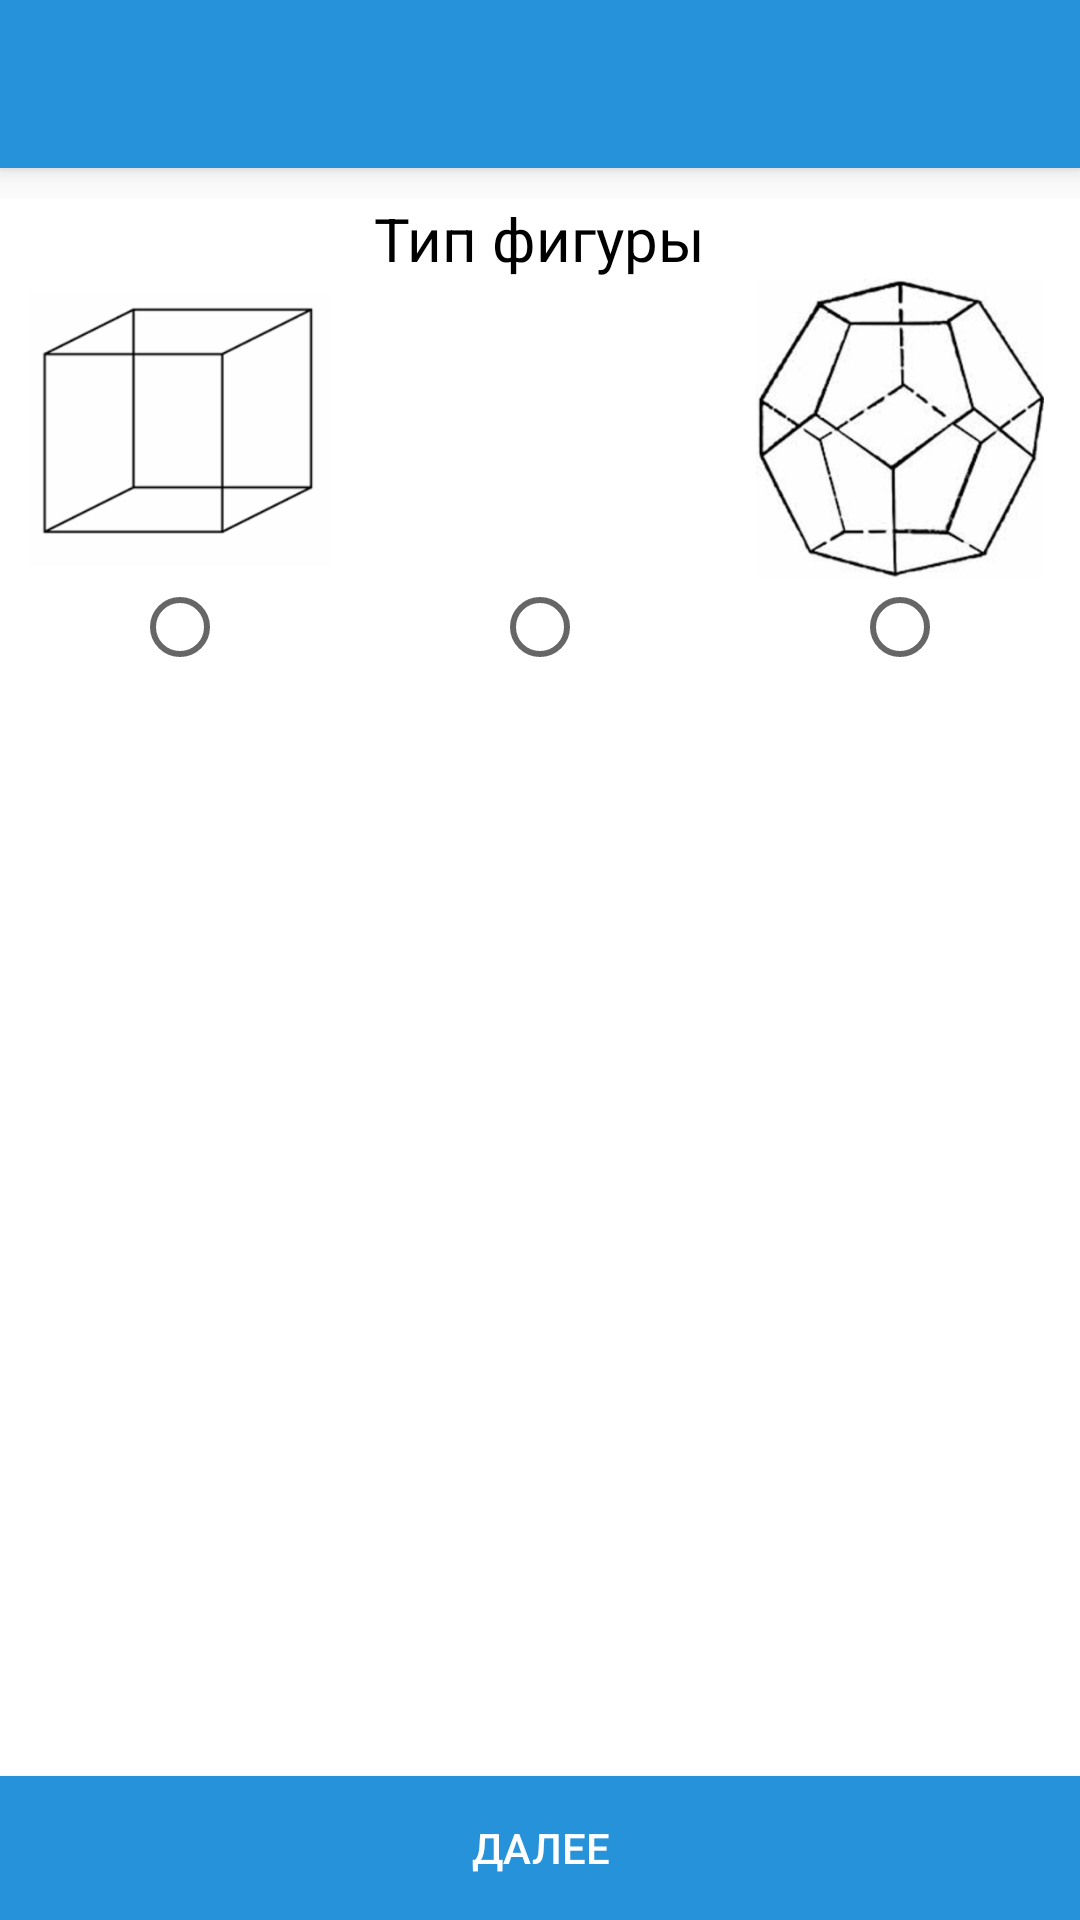

Where icons sit on this 1080 × 1920 app screen, as (x1, y1, x2, y2):
cube: (43, 308, 313, 534)
dode: (758, 281, 1044, 577)
